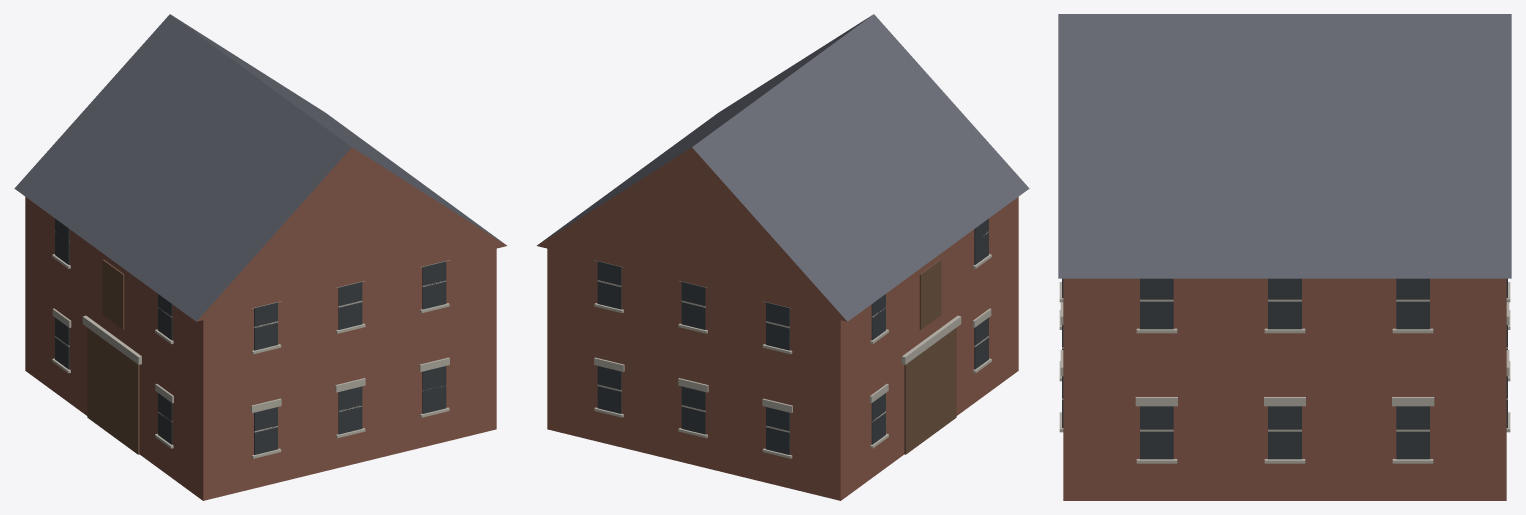
Rendered from house_1828_prairie_coach_house__draft_1904.glb.
3 views of the same model, side by side, from view 1: azimuth 30°, elevation 25°; view 2: azimuth 150°, elevation 25°; view 3: azimuth 270°, elevation 25° (orthographic). The views are drawn at different scales.
Parts seen in each view (by area): view 1: house_1828_prairie_coach_house__draft_1904; view 2: house_1828_prairie_coach_house__draft_1904; view 3: house_1828_prairie_coach_house__draft_1904.
Part boxes in pixels (box(x1,y1,x2,y2)): house_1828_prairie_coach_house__draft_1904: box(14, 14, 506, 500); house_1828_prairie_coach_house__draft_1904: box(537, 14, 1029, 500); house_1828_prairie_coach_house__draft_1904: box(1058, 14, 1511, 500).
Bounding box in the file's own units: 10.6 × 10.4 × 10.74.
